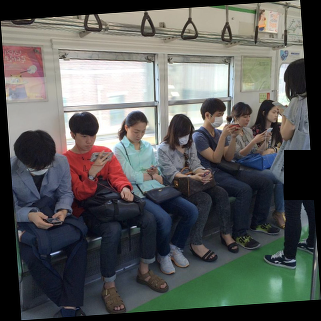with_mask: (178, 132, 192, 148), (210, 112, 223, 129)
without_mask: (77, 133, 98, 151), (128, 126, 147, 143), (237, 113, 252, 128), (268, 109, 280, 123)
